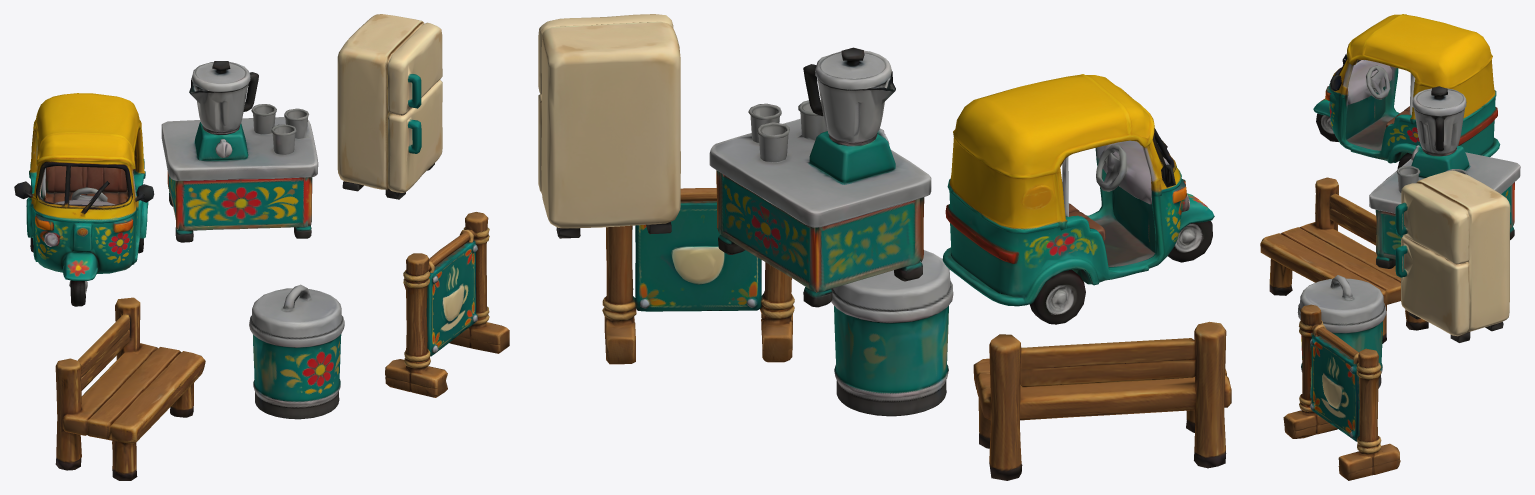
File: tripo_convert_0216b513-8211-458a-858f-aa901399f607.fbx
The picture shows the model from 3 angles, left to right: view 1: azimuth 30°, elevation 25°; view 2: azimuth 150°, elevation 25°; view 3: azimuth 270°, elevation 25°; orthographic projection. The views are drawn at different scales.
Parts seen in each view (by area): view 1: tripo_node_0216b513; view 2: tripo_node_0216b513; view 3: tripo_node_0216b513.
Boxes of the visible parts, x1,y1,x2,y2 form: tripo_node_0216b513: (14,14,509,480); tripo_node_0216b513: (538,14,1231,480); tripo_node_0216b513: (1260,14,1520,480).
Bounding box in the file's own units: 0.9791 × 0.6155 × 0.5105.
1 material, 1 textured.
